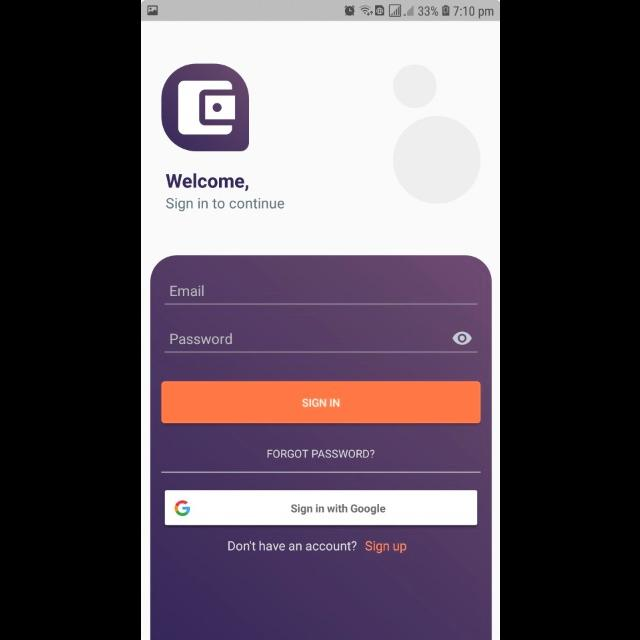icon: (451, 330, 471, 346)
image: (161, 64, 249, 152)
input: (164, 331, 476, 354), (164, 286, 476, 306)
text: (164, 198, 284, 214), (165, 172, 249, 192), (227, 540, 357, 552), (266, 449, 374, 459), (168, 333, 232, 345), (364, 540, 406, 554), (168, 285, 204, 297)
textbutton: (160, 381, 480, 425), (164, 490, 476, 526)
uppertaskbar: (141, 1, 499, 22)
